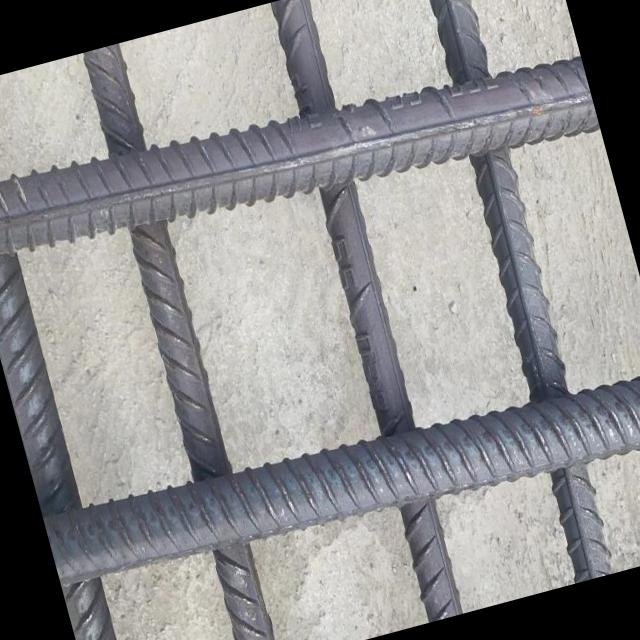ribbed bar: (0, 16, 602, 302), (41, 347, 640, 611), (259, 0, 473, 623), (407, 0, 628, 583), (74, 43, 287, 640), (0, 82, 141, 640)
